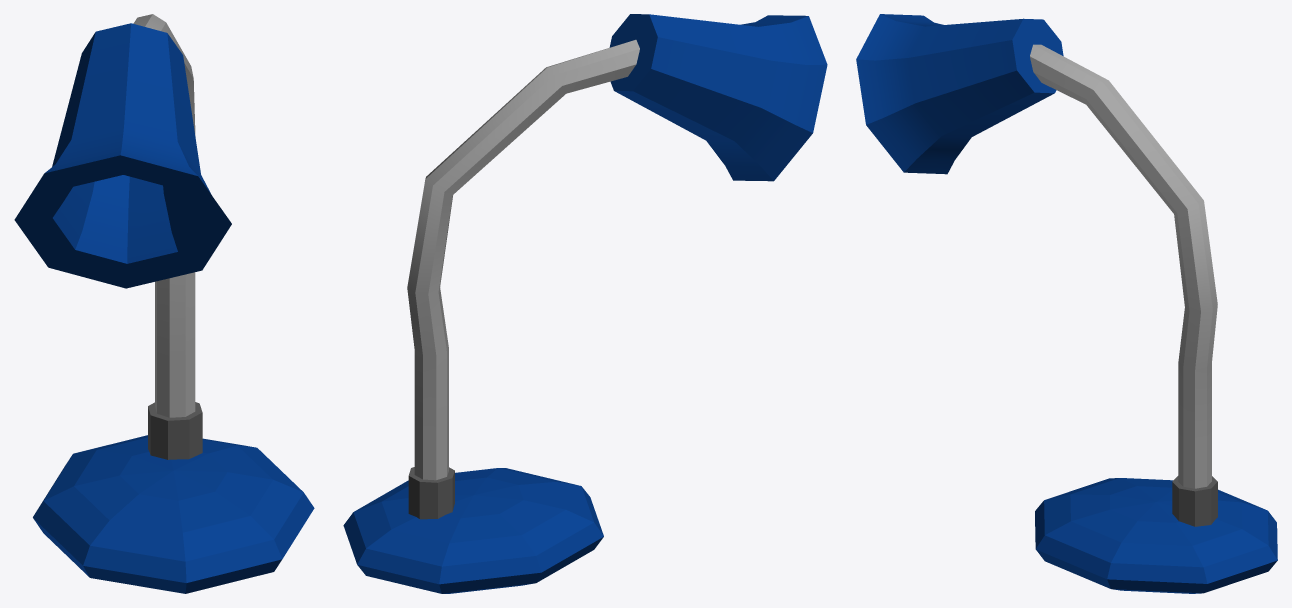
Rendered from lamp.fbx.
The picture shows the model from 3 angles, left to right: view 1: azimuth 30°, elevation 25°; view 2: azimuth 150°, elevation 25°; view 3: azimuth 270°, elevation 25°; orthographic projection. The views are drawn at different scales.
Parts seen in each view (by area): view 1: office_stuff:pCylinder8, office_stuff:pSphere1, office_stuff:pCylinder5, office_stuff:pCylinder4; view 2: office_stuff:pCylinder8, office_stuff:pSphere1, office_stuff:pCylinder5, office_stuff:pCylinder4; view 3: office_stuff:pCylinder8, office_stuff:pSphere1, office_stuff:pCylinder5, office_stuff:pCylinder4.
Part boxes in pixels (x1,y1,x2,y2): office_stuff:pCylinder8: (14,23,231,288); office_stuff:pSphere1: (33,435,314,593); office_stuff:pCylinder5: (133,14,195,417); office_stuff:pCylinder4: (148,402,202,459); office_stuff:pCylinder8: (609,14,827,181); office_stuff:pSphere1: (343,468,603,593); office_stuff:pCylinder5: (407,39,639,480); office_stuff:pCylinder4: (408,467,454,519); office_stuff:pCylinder8: (856,14,1063,174); office_stuff:pSphere1: (1035,478,1277,593); office_stuff:pCylinder5: (1030,44,1217,488); office_stuff:pCylinder4: (1172,476,1217,526).
Size of the model in its own units: 6.17 by 9.12 by 6.95.
